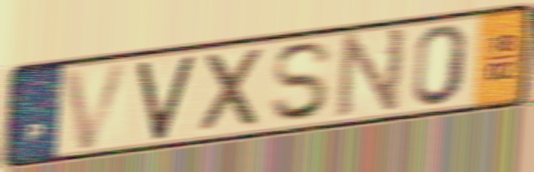0: (411, 22, 472, 109)
N: (332, 24, 410, 121)
S: (268, 38, 338, 125)
V: (59, 58, 136, 154), (134, 51, 199, 144)
X: (198, 44, 270, 137)
